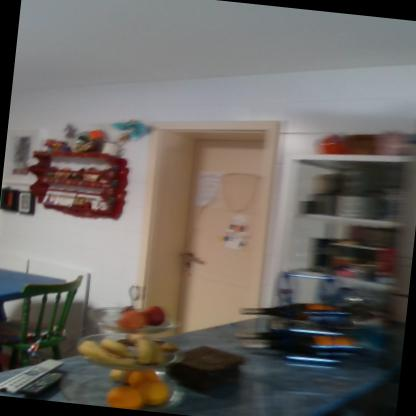closed: (132, 104, 294, 354)
